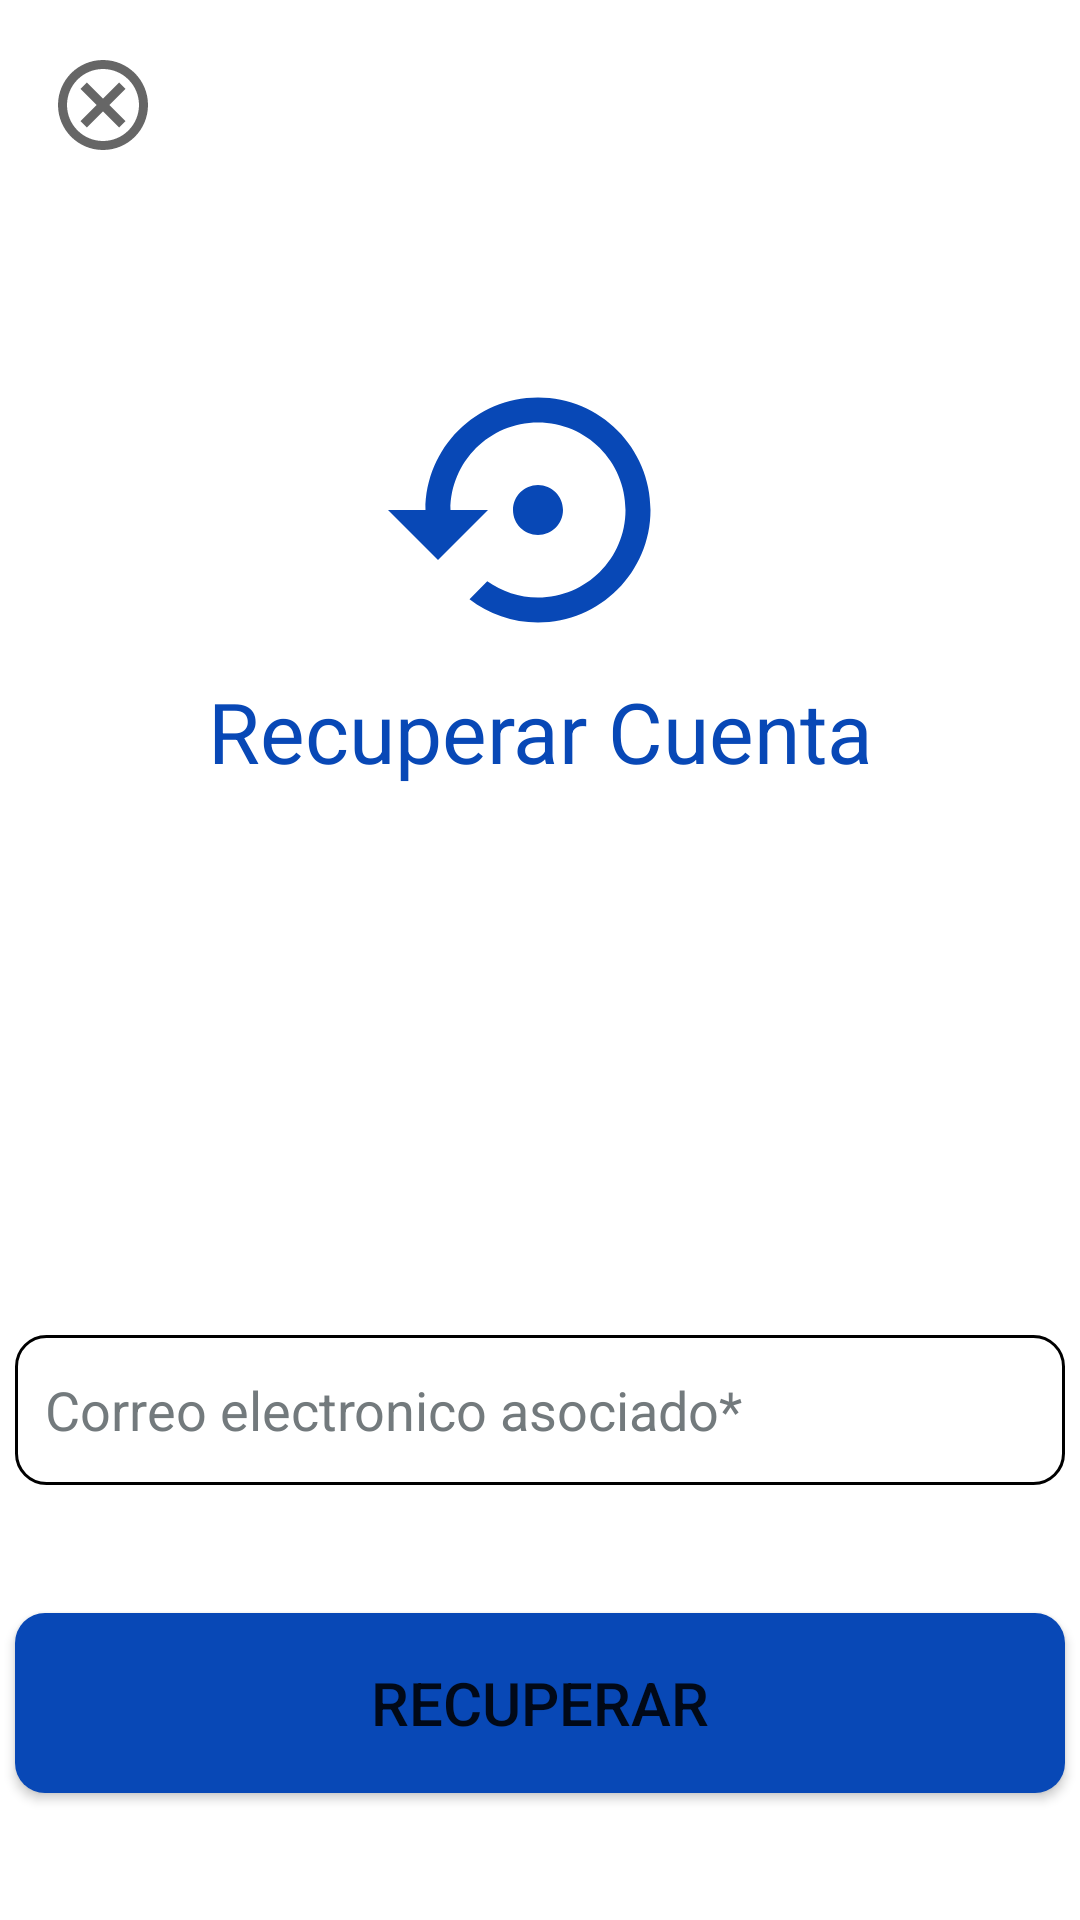

Icon bounding boxes for this 1080px x 1920px phone screenshot, format (x1, y1, x2, y2):
Cancelar: (58, 60, 148, 150)
